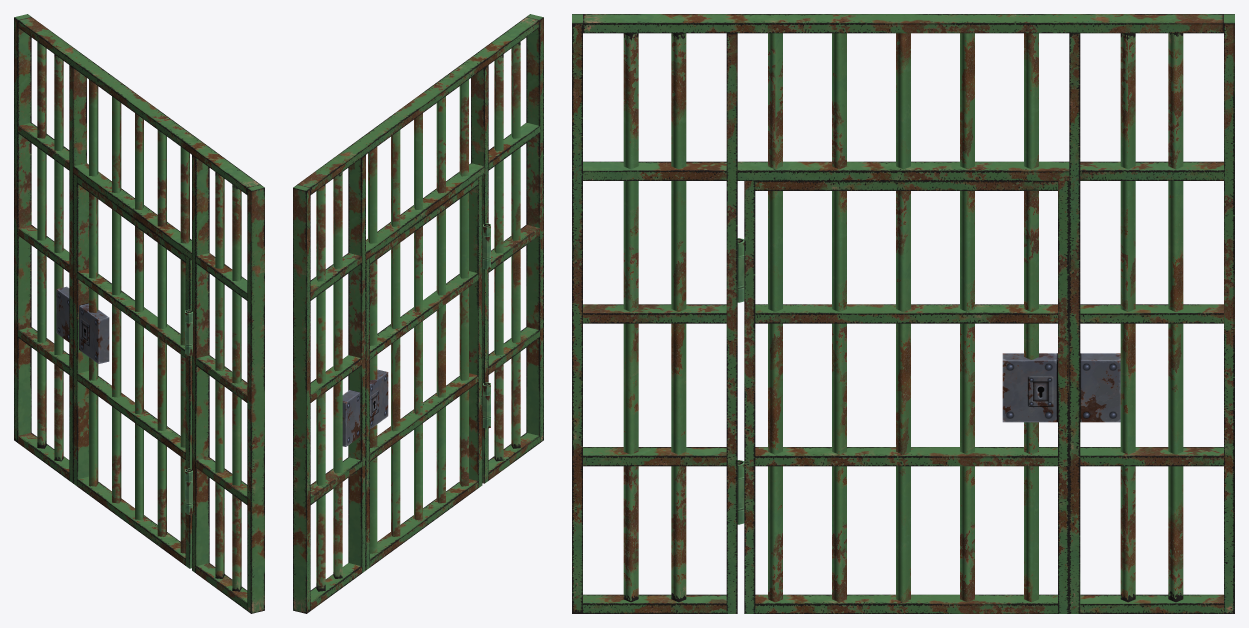
File: metalBars01_door.FBX
3 renders of one model, left to right at view 1: azimuth 30°, elevation 25°; view 2: azimuth 150°, elevation 25°; view 3: azimuth 270°, elevation 25°, orthographic. The views are drawn at different scales.
Visible parts, largest first — view 1: metalBars01_3m, metalBars01_door; view 2: metalBars01_3m, metalBars01_door; view 3: metalBars01_3m, metalBars01_door.
Part boxes in pixels (x1=…): metalBars01_3m: x1=14, y1=14, x2=264, y2=613; metalBars01_door: x1=73, y1=174, x2=192, y2=568; metalBars01_3m: x1=293, y1=14, x2=543, y2=613; metalBars01_door: x1=366, y1=176, x2=490, y2=570; metalBars01_3m: x1=572, y1=14, x2=1234, y2=613; metalBars01_door: x1=737, y1=181, x2=1069, y2=613.
Size of the model in its own units: 14.96 by 295 by 300.
